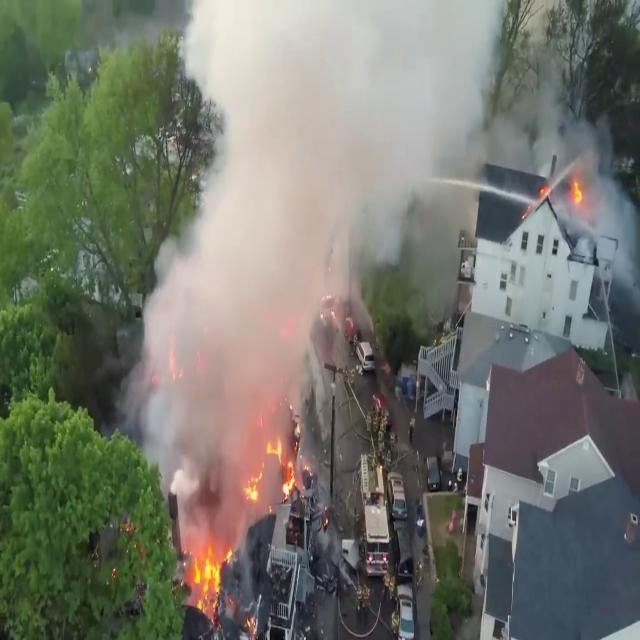Fire: (245, 427, 308, 506), (188, 534, 234, 620)
Smoke: (115, 0, 388, 518), (170, 0, 502, 222)
